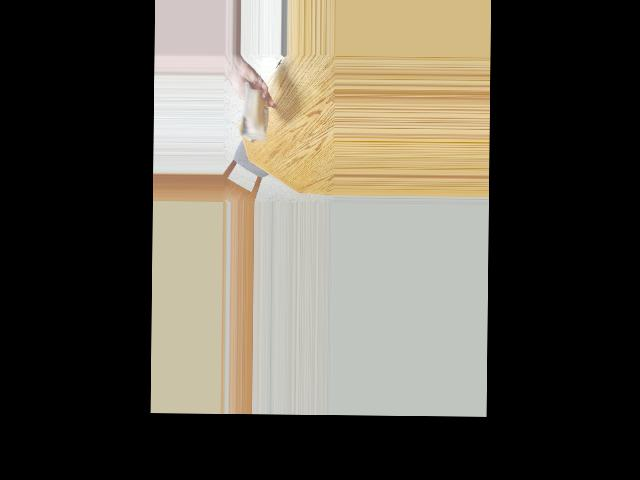cheese: (235, 87, 274, 140)
